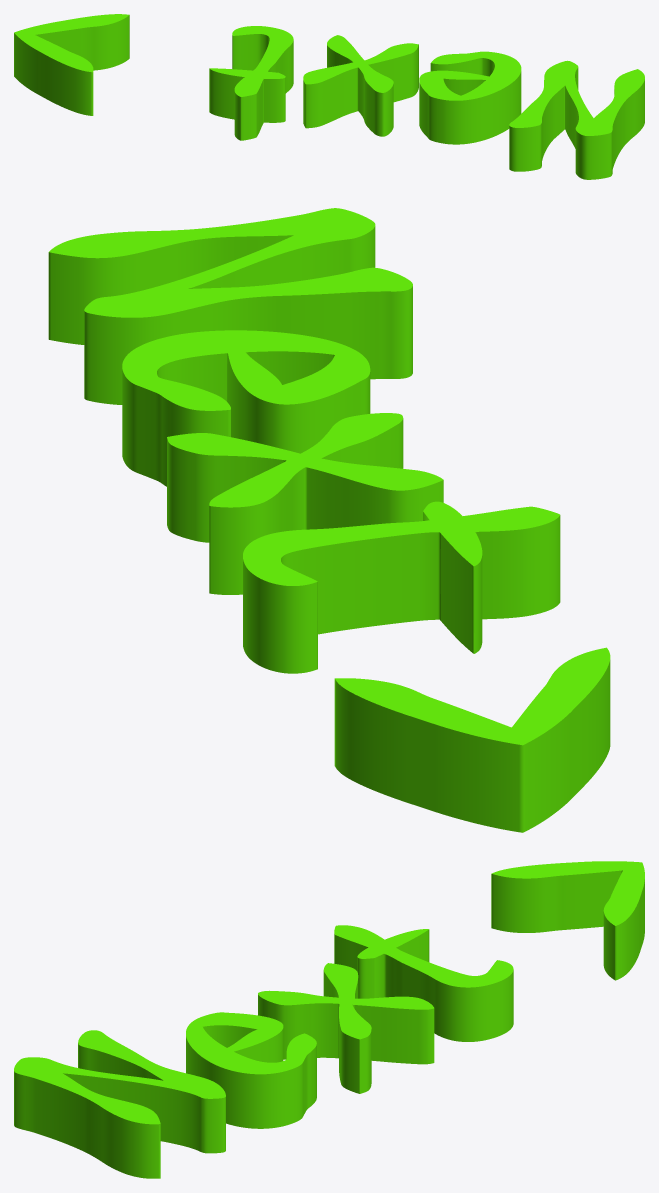
Rendered from text_next_credit_tree.glb.
3 renders of one model, top to bottom at view 1: azimuth 30°, elevation 25°; view 2: azimuth 150°, elevation 25°; view 3: azimuth 270°, elevation 25°, orthographic. The views are drawn at different scales.
Visible parts, largest first — view 1: Text.012; view 2: Text.012; view 3: Text.012.
Boxes of the visible parts, x1,y1,x2,y2 form: Text.012: [14, 14, 644, 179]; Text.012: [48, 208, 610, 832]; Text.012: [14, 861, 644, 1178].
Bounding box in the file's own units: 0.7578 × 0.0733 × 0.7681.
